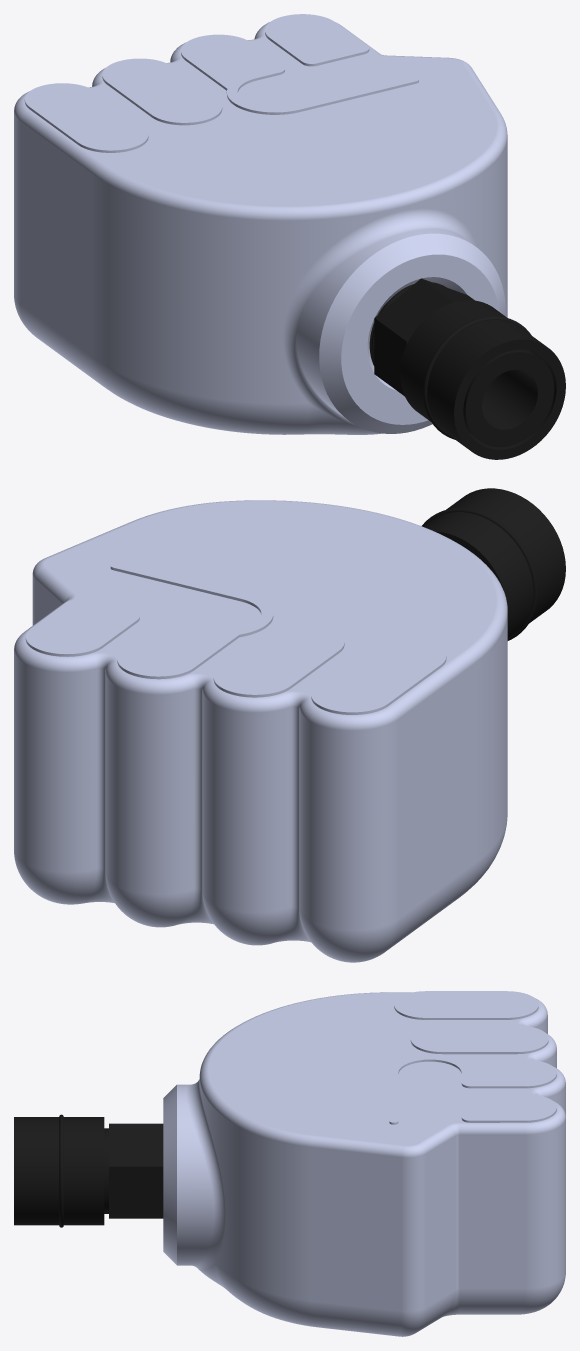
Rendered from fist.obj.
The picture shows the model from 3 angles, top to bottom: view 1: azimuth 30°, elevation 25°; view 2: azimuth 150°, elevation 25°; view 3: azimuth 270°, elevation 25°; orthographic projection. The views are drawn at different scales.
Visible parts, largest first — view 1: Body1:1, Body2, Body1; view 2: Body1:1, Body2; view 3: Body1:1, Body2, Body1.
Part boxes in pixels (x1,y1,x2,y2): Body1:1: [14, 14, 507, 434]; Body2: [400, 300, 565, 459]; Body1: [369, 278, 554, 447]; Body1:1: [14, 500, 507, 962]; Body2: [422, 488, 565, 640]; Body1:1: [163, 991, 565, 1336]; Body2: [14, 1114, 104, 1227]; Body1: [104, 1123, 163, 1218].
Bounding box in the file's own units: 0.0837 × 0.05 × 0.122.
